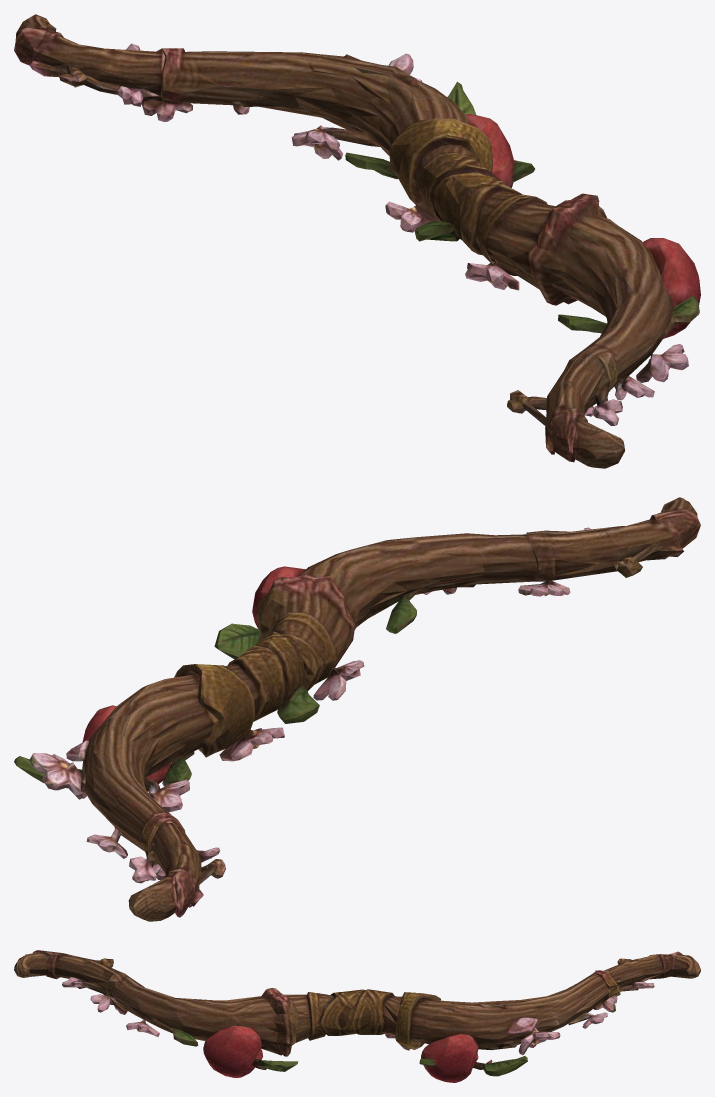
The model's file is orchard_bow.glb.
The picture shows the model from 3 angles, top to bottom: view 1: azimuth 30°, elevation 25°; view 2: azimuth 150°, elevation 25°; view 3: azimuth 270°, elevation 25°; orthographic projection. The views are drawn at different scales.
Size of the model in its own units: 0.618 by 0.2406 by 1.98.
1 material, 1 textured.
